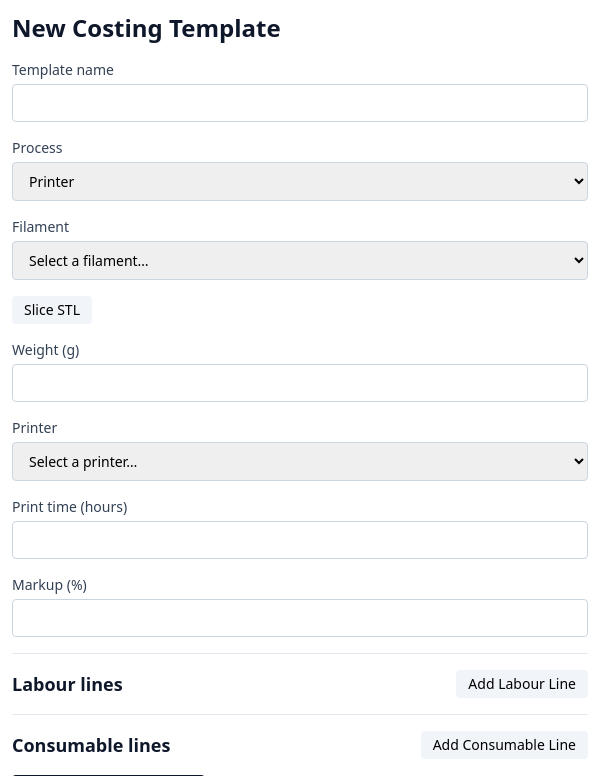
CostingTemplateCreatePage › switching the process selector swaps the visible input group
The width and height of the screenshot is (605, 776).
Expected: the dropdown labelled "Filament" is shown, [12,241,588,280]
Expected: the dropdown labelled "Printer" is shown, [12,442,588,481]
Select "Scanner" in the dropdown labelled "Process". click: [300, 182]
box: [12,162,588,201]
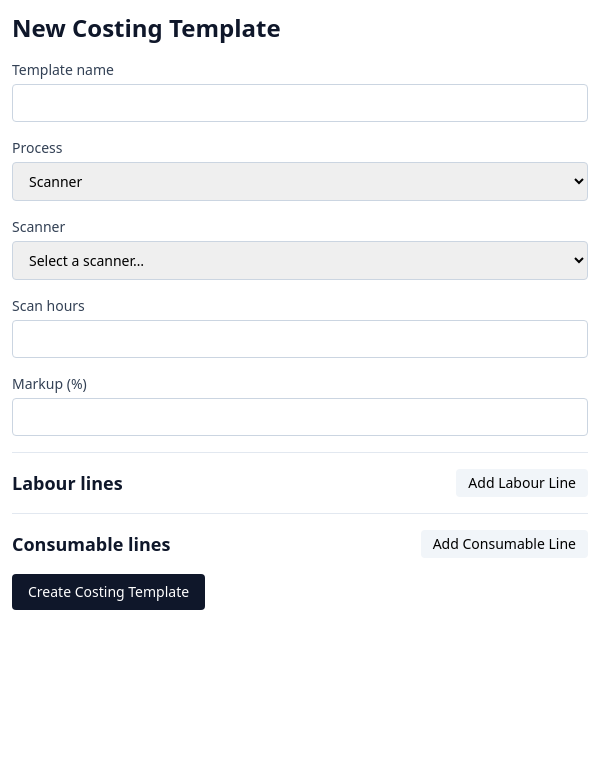
Now the label labelled "Filament" is gone
Now the dropdown labelled "Scanner" is shown, box [12,241,588,280]
Now the number field labelled "Scan hours" is shown, box [12,320,588,358]
Select "Laser — sheet" in the dropdown labelled "Process". click: [300, 182]
box: [12,162,588,201]
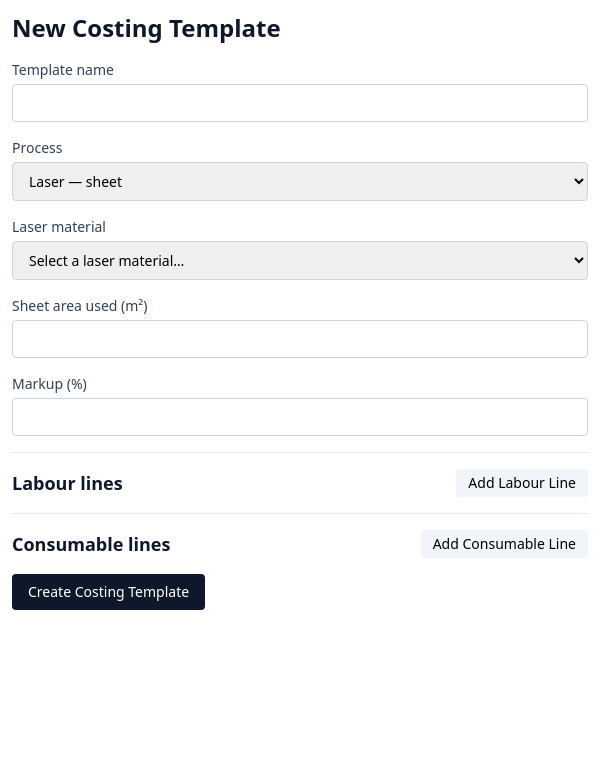
Expected: the number field labelled "Sheet area used (m²)" is shown, [12,320,588,358]
Now the label labelled "Scanner" is gone
Now the dropdown labelled "Laser material" is shown, box [12,241,588,280]
Select "Laser — premade item" in the dropdown labelled "Process". click: [300, 182]
box: [12,162,588,201]
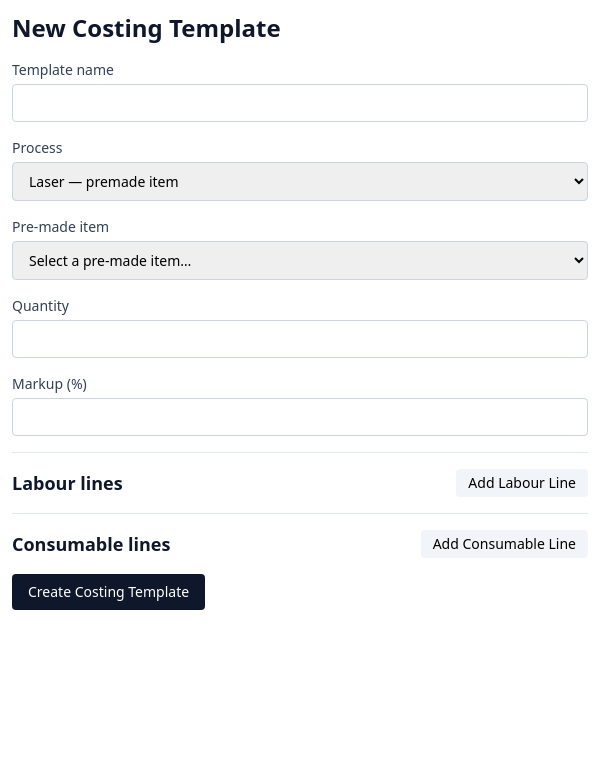
Expected: the number field labelled "Quantity" is shown, [12,320,588,358]
Now the label labelled "Laser material" is gone
Now the dropdown labelled "Pre-made item" is shown, box [12,241,588,280]
